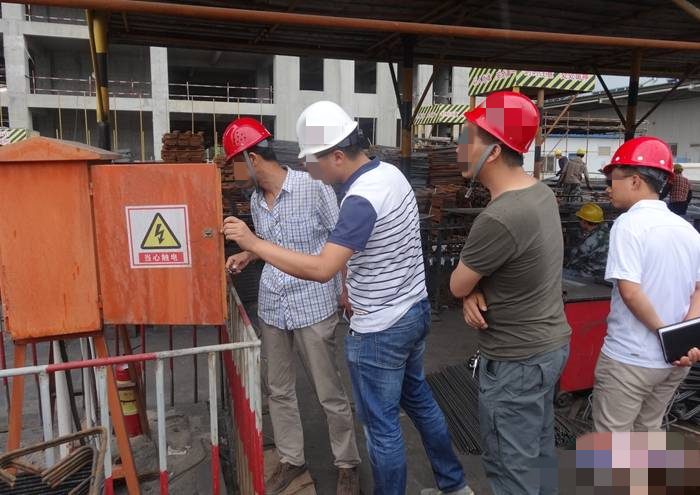ebox: (1, 120, 231, 358)
helmet: (464, 89, 540, 155), (296, 100, 358, 158), (600, 137, 674, 172), (221, 118, 273, 163)
person: (223, 98, 471, 495), (217, 119, 362, 495), (443, 89, 574, 495), (589, 134, 700, 495), (565, 202, 614, 288), (658, 163, 694, 216), (558, 148, 592, 198), (553, 149, 569, 178)
vest: (565, 158, 582, 184)
